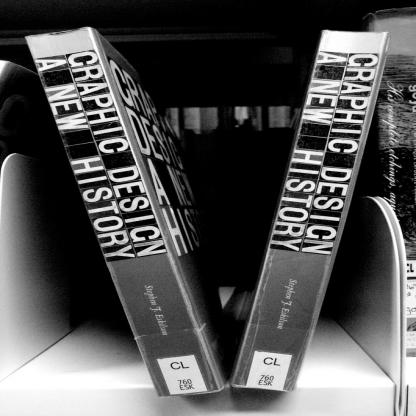book: (24, 25, 226, 395), (232, 28, 392, 394)
